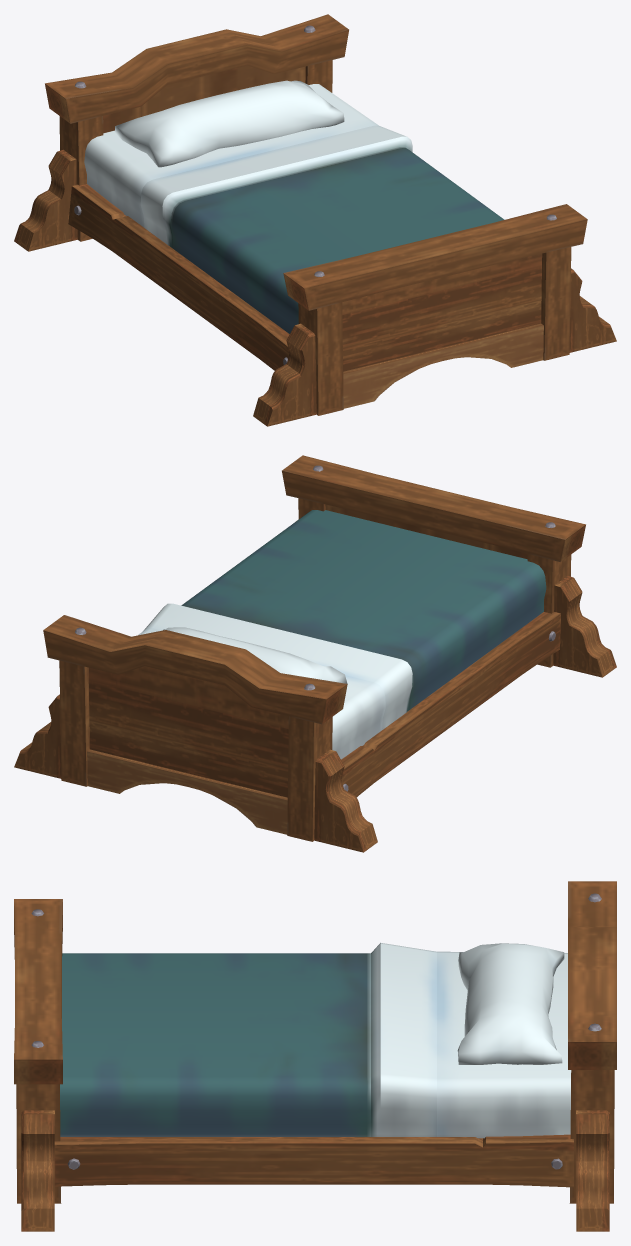
File: bed_twin1.glb
3 views of the same model, one above another, from view 1: azimuth 30°, elevation 25°; view 2: azimuth 150°, elevation 25°; view 3: azimuth 270°, elevation 25° (orthographic). The views are drawn at different scales.
Visible parts, largest first — view 1: Bed_Twin1; view 2: Bed_Twin1; view 3: Bed_Twin1.
Boxes of the visible parts, left/top/right/bottom form: Bed_Twin1: left=14, top=14, right=616, bottom=426; Bed_Twin1: left=14, top=455, right=616, bottom=852; Bed_Twin1: left=14, top=881, right=616, bottom=1231.
Size of the model in its own units: 1.88 by 0.8051 by 2.41.
3 materials, 3 textured.
